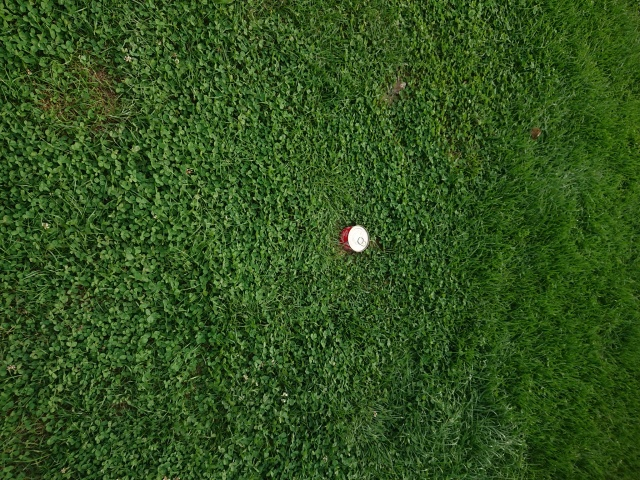Podravka Luncheon Meat 150g: (337, 224, 370, 254)
